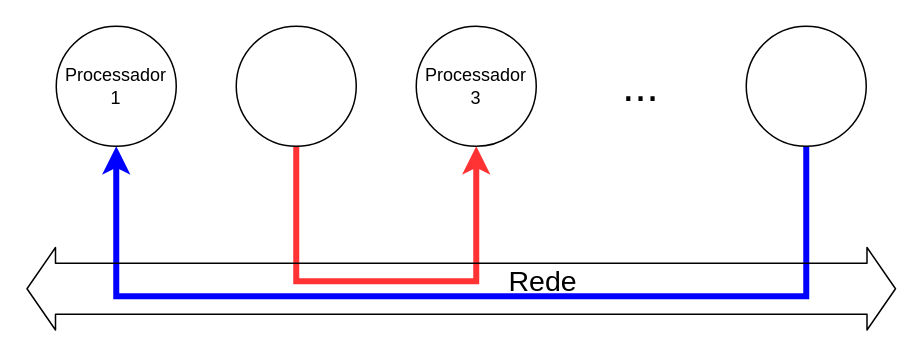
The diagram is 921 pixels wide and 357 high, and some of its shapes have lost their labels. Each missing label, with the centre of its shape:
"Processador 2" goes at (x=295, y=85).
"Processador n" goes at (x=805, y=85).
